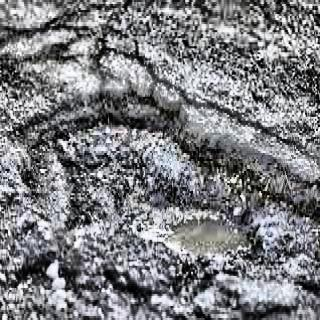pothole: (11, 82, 320, 316)
